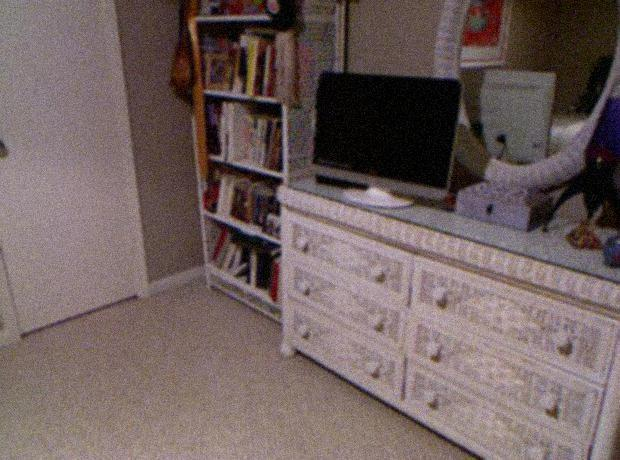Armario: (264, 198, 614, 451)
